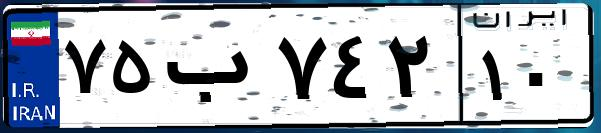0: (525, 38, 570, 115)
1: (475, 38, 525, 113)
2: (385, 28, 445, 110)
4: (330, 28, 385, 110)
5: (110, 28, 158, 98)
7: (270, 28, 330, 110), (57, 26, 110, 100)
ب: (158, 20, 270, 120)
